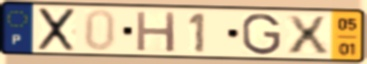0: (81, 8, 119, 53)
1: (187, 12, 207, 54)
G: (240, 12, 283, 57)
H: (134, 10, 179, 54)
X: (284, 14, 332, 56), (36, 6, 78, 53)
